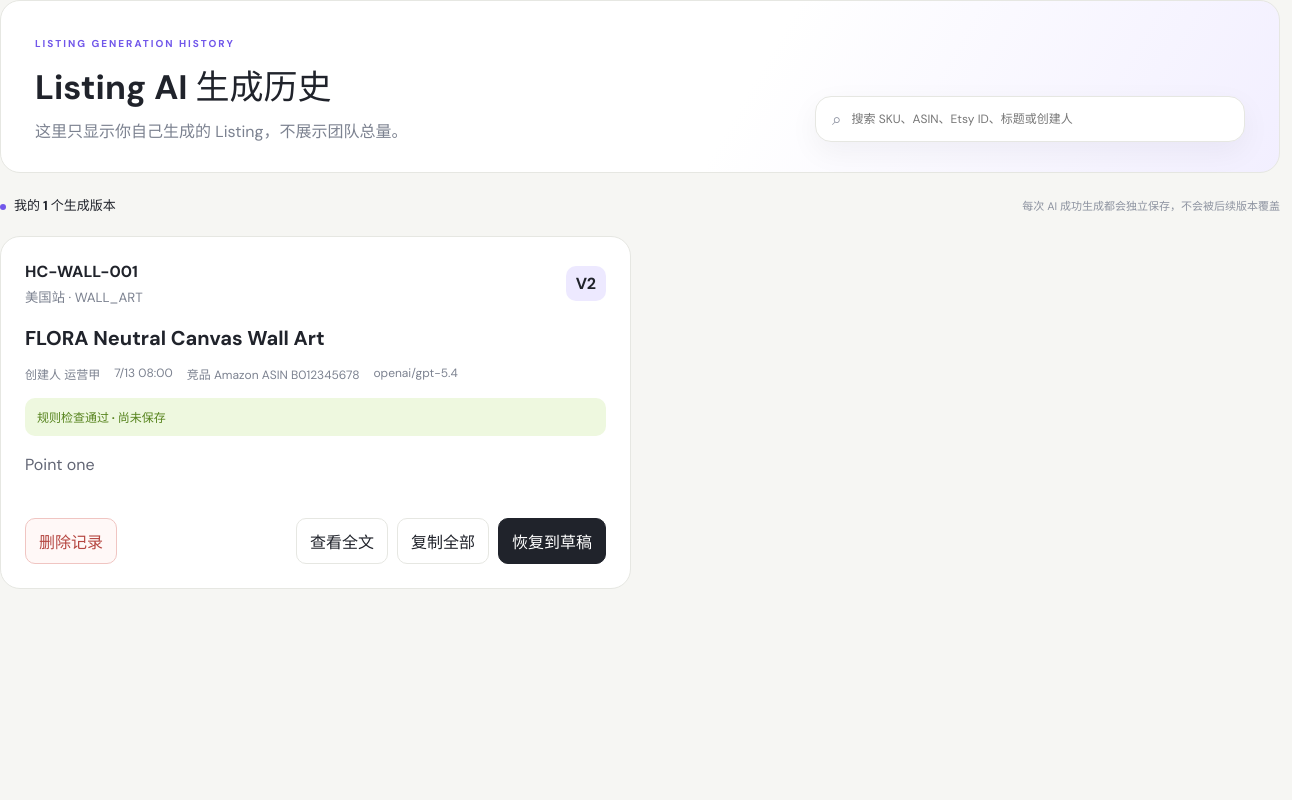
it: ListingHistoryPage › 二次确认后删除历史版本并从页面移除
Expected: the heading "FLORA Neutral Canvas Wall Art" is shown, [25,325,325,351]
Click the button "删除记录" at (71, 541), box [25,518,117,564]
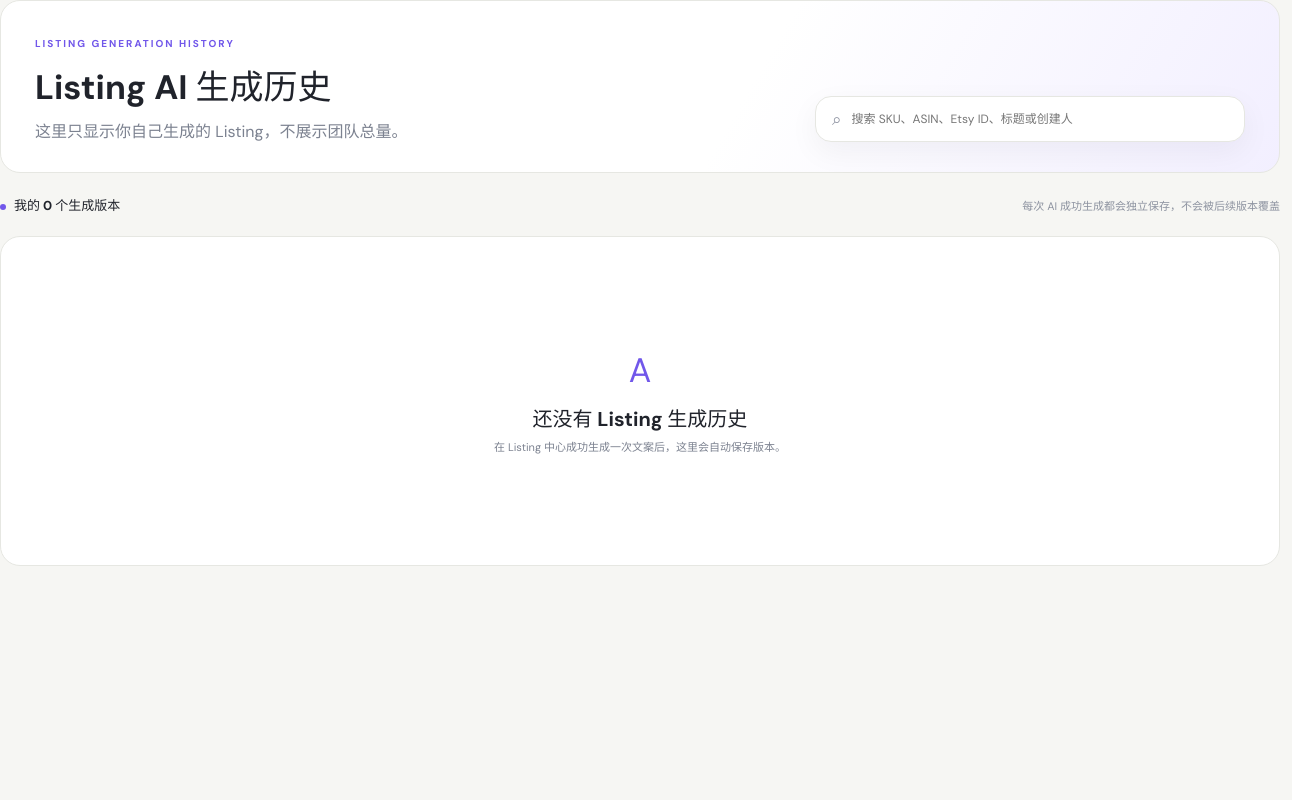
Expected: the heading "FLORA Neutral Canvas Wall Art" is gone
